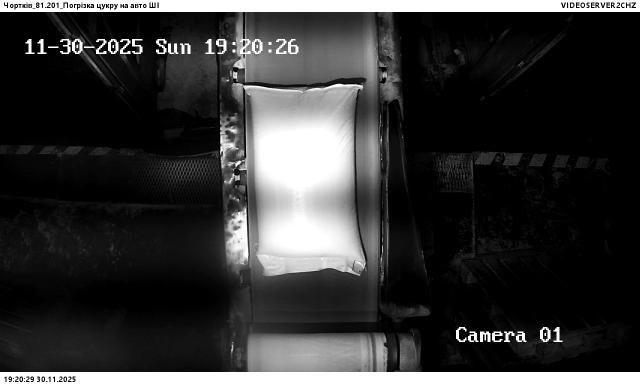bag: (245, 82, 367, 276)
